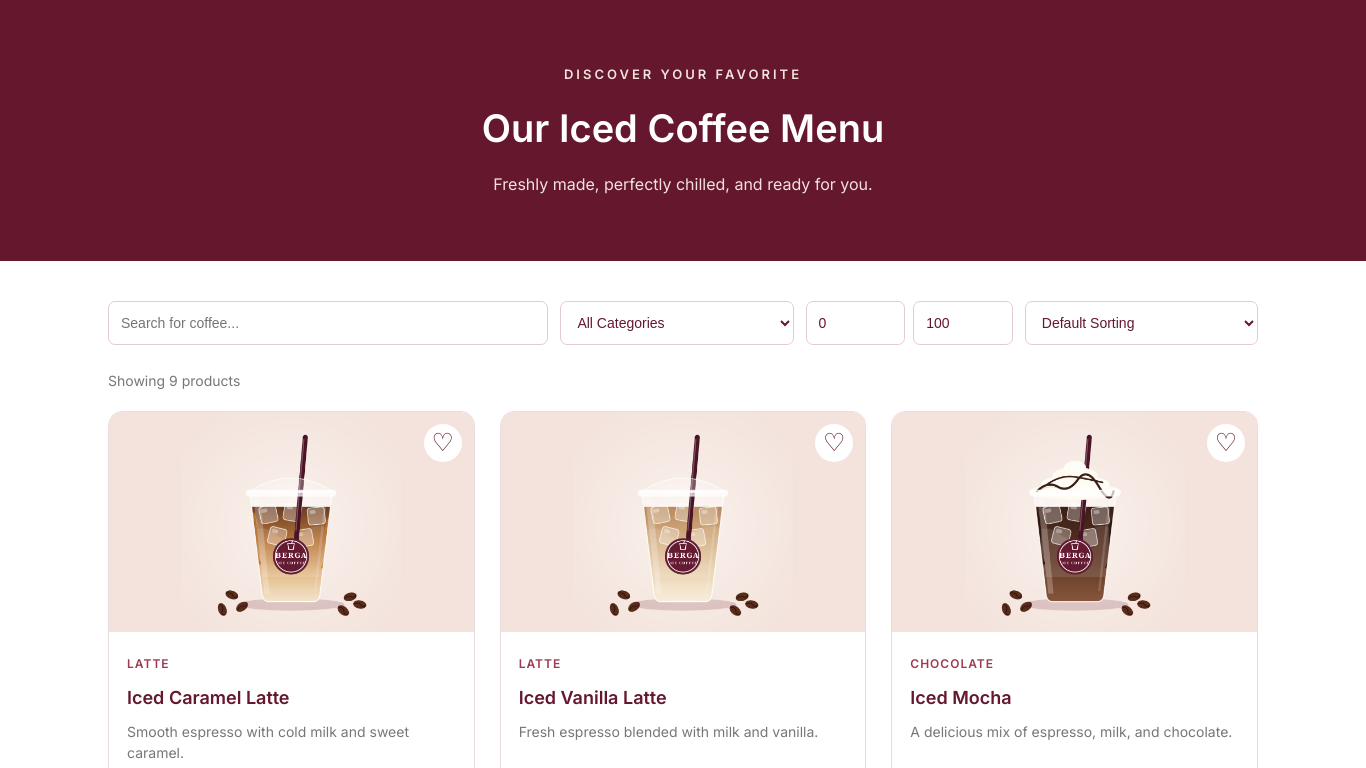
Product filtering › shows a message when nothing matches
Type "pizza" into the field with placeholder "Search for coffee...". click: point(328, 322)
box: 108,300 -> 548,344
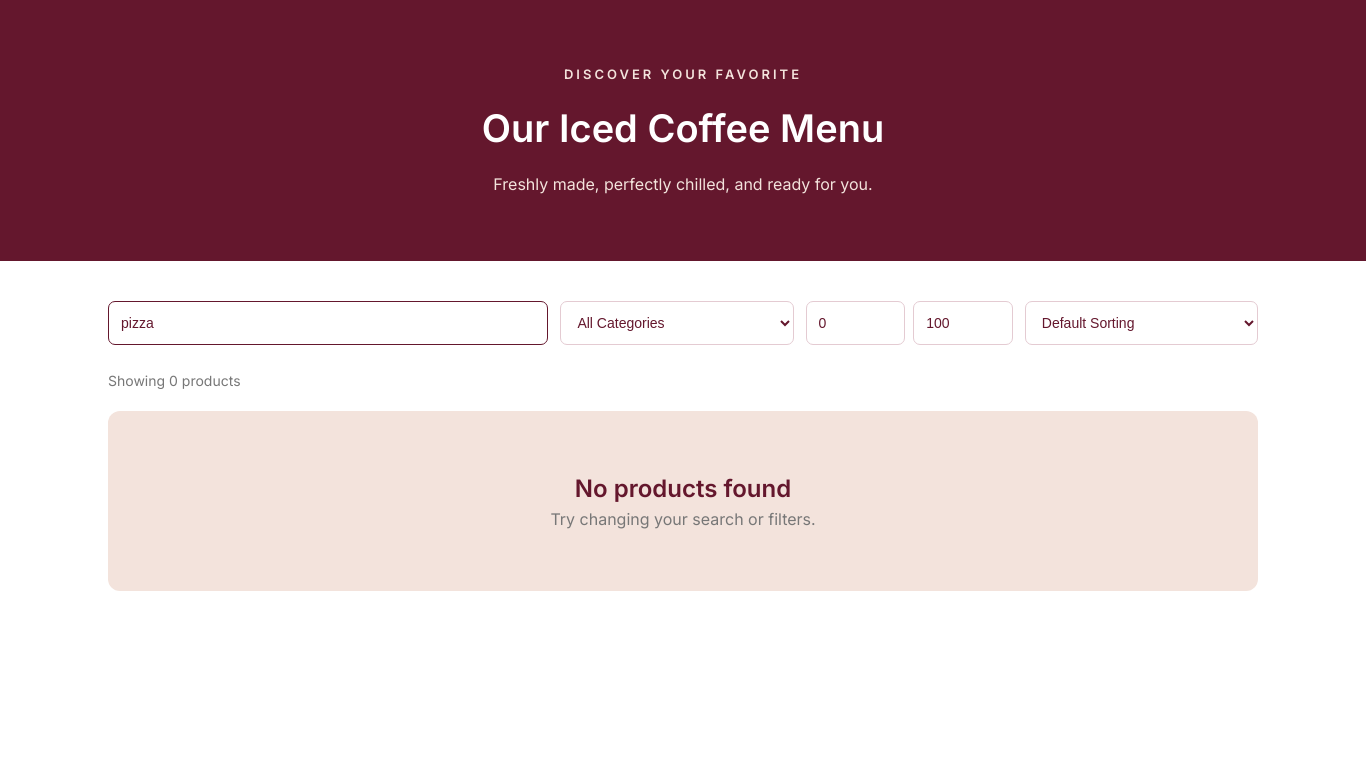
Check: the heading "No products found" is shown, box 575,474 -> 791,502
